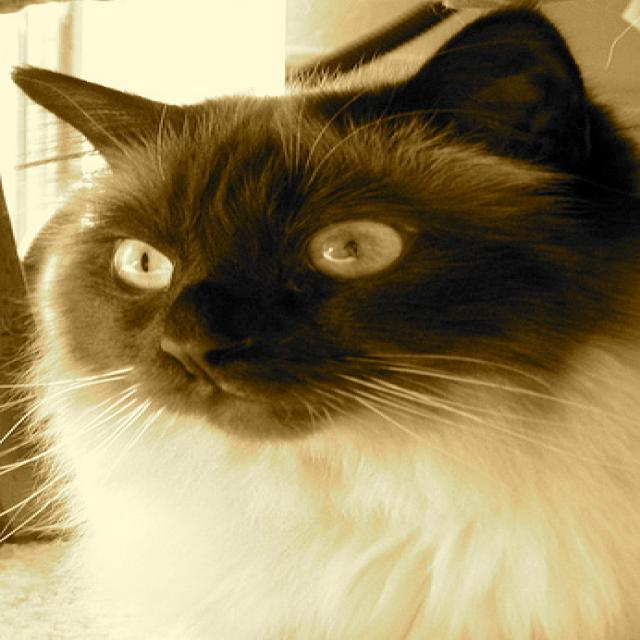left eye: (301, 215, 407, 279)
